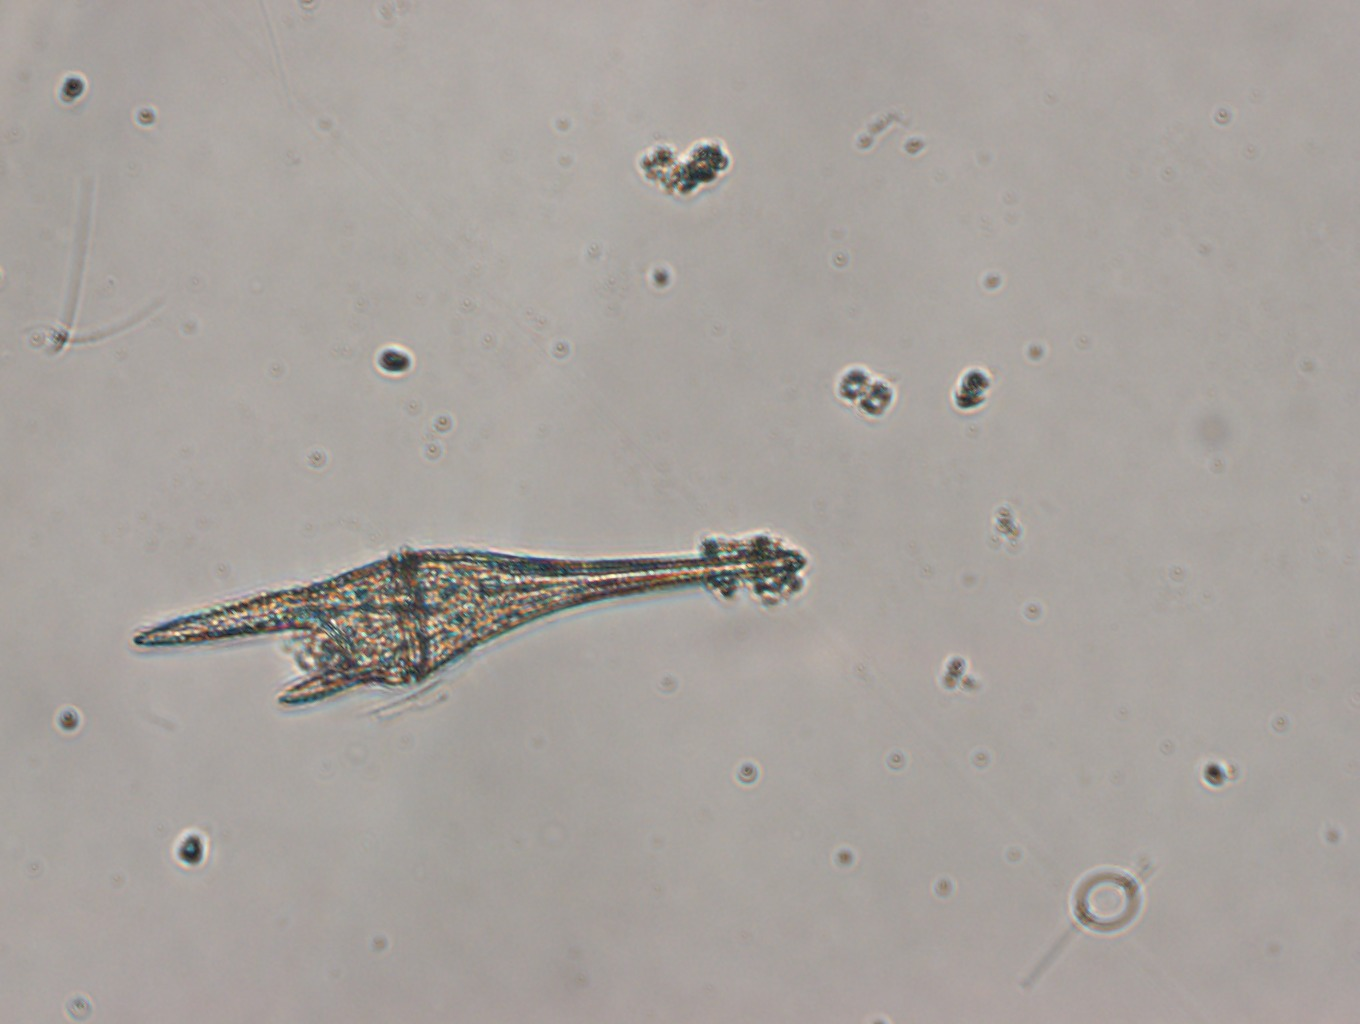ceratium furca: (131, 543, 806, 709)
